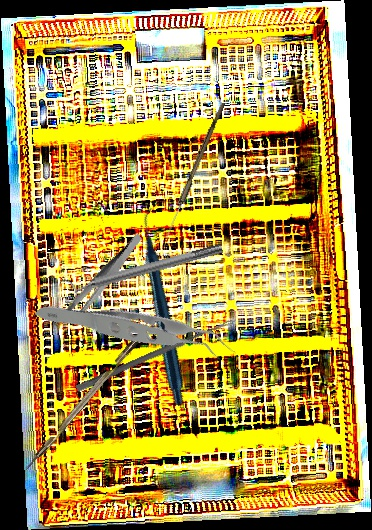Chopper: (16, 333, 150, 484)
Dressing Forceps: (46, 232, 160, 327)
Fixation Ring: (59, 236, 226, 305)
Handpiece: (75, 206, 256, 408)
Surgical Spoon: (75, 316, 234, 394), (163, 101, 226, 240)
Tissue Forceps: (34, 235, 237, 431)
